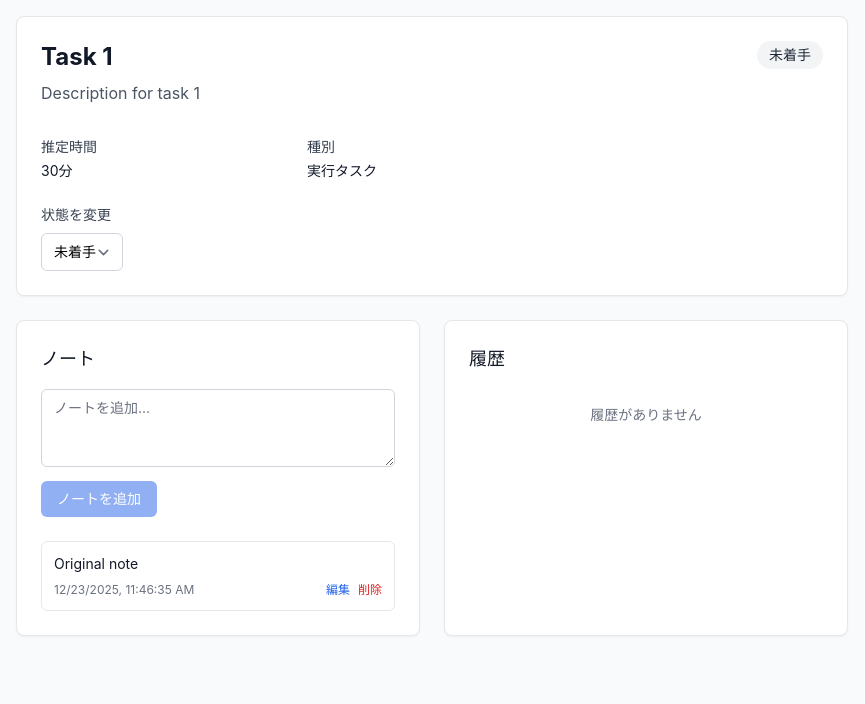
TaskDetailPage › ノート機能 › ノートの編集をキャンセルできる
The image size is (865, 704).
Expected: the text "Original note" is shown, [54,555,138,572]
Click the button "編集": point(338, 590) [326,582,350,598]
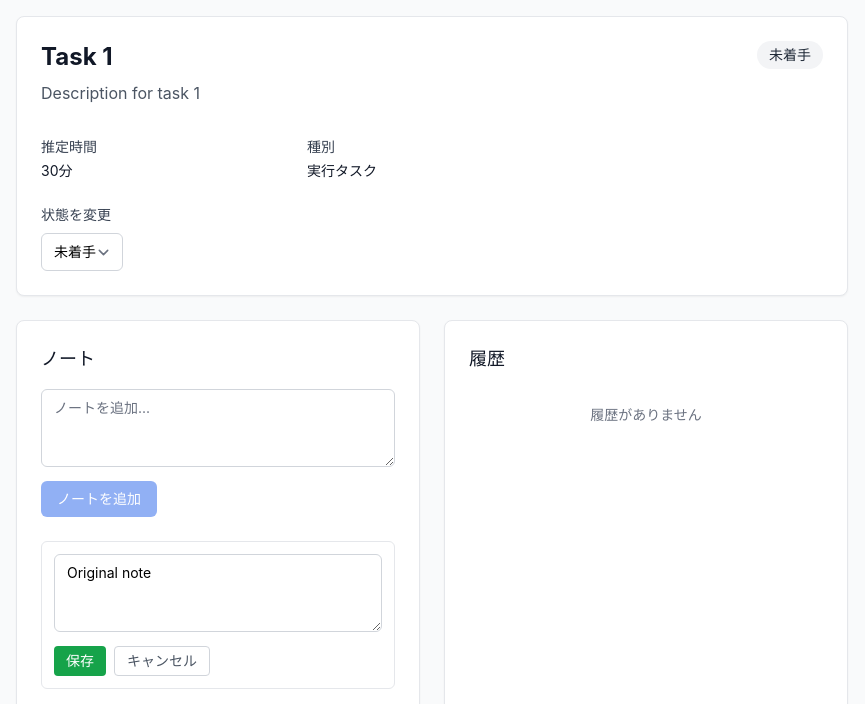
Click the button "キャンセル": point(162, 661) [114,646,210,676]
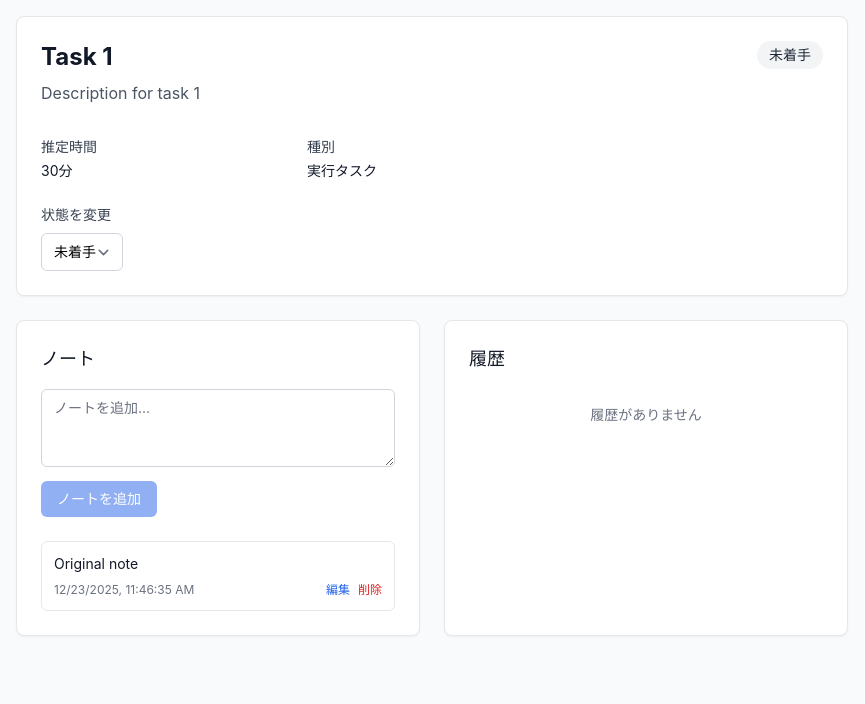
Expected: the text "Original note" is shown, [54,555,138,572]
Expected: the button "保存" is gone
